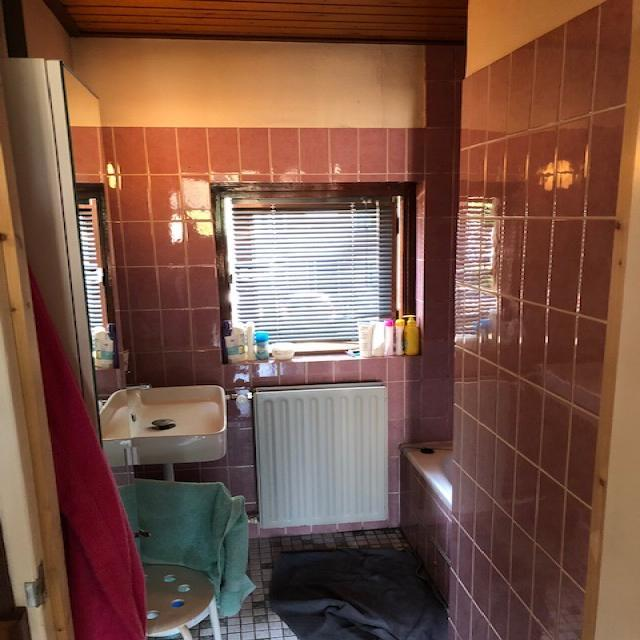bath: (402, 435, 454, 572)
wastafel: (126, 382, 228, 466)
